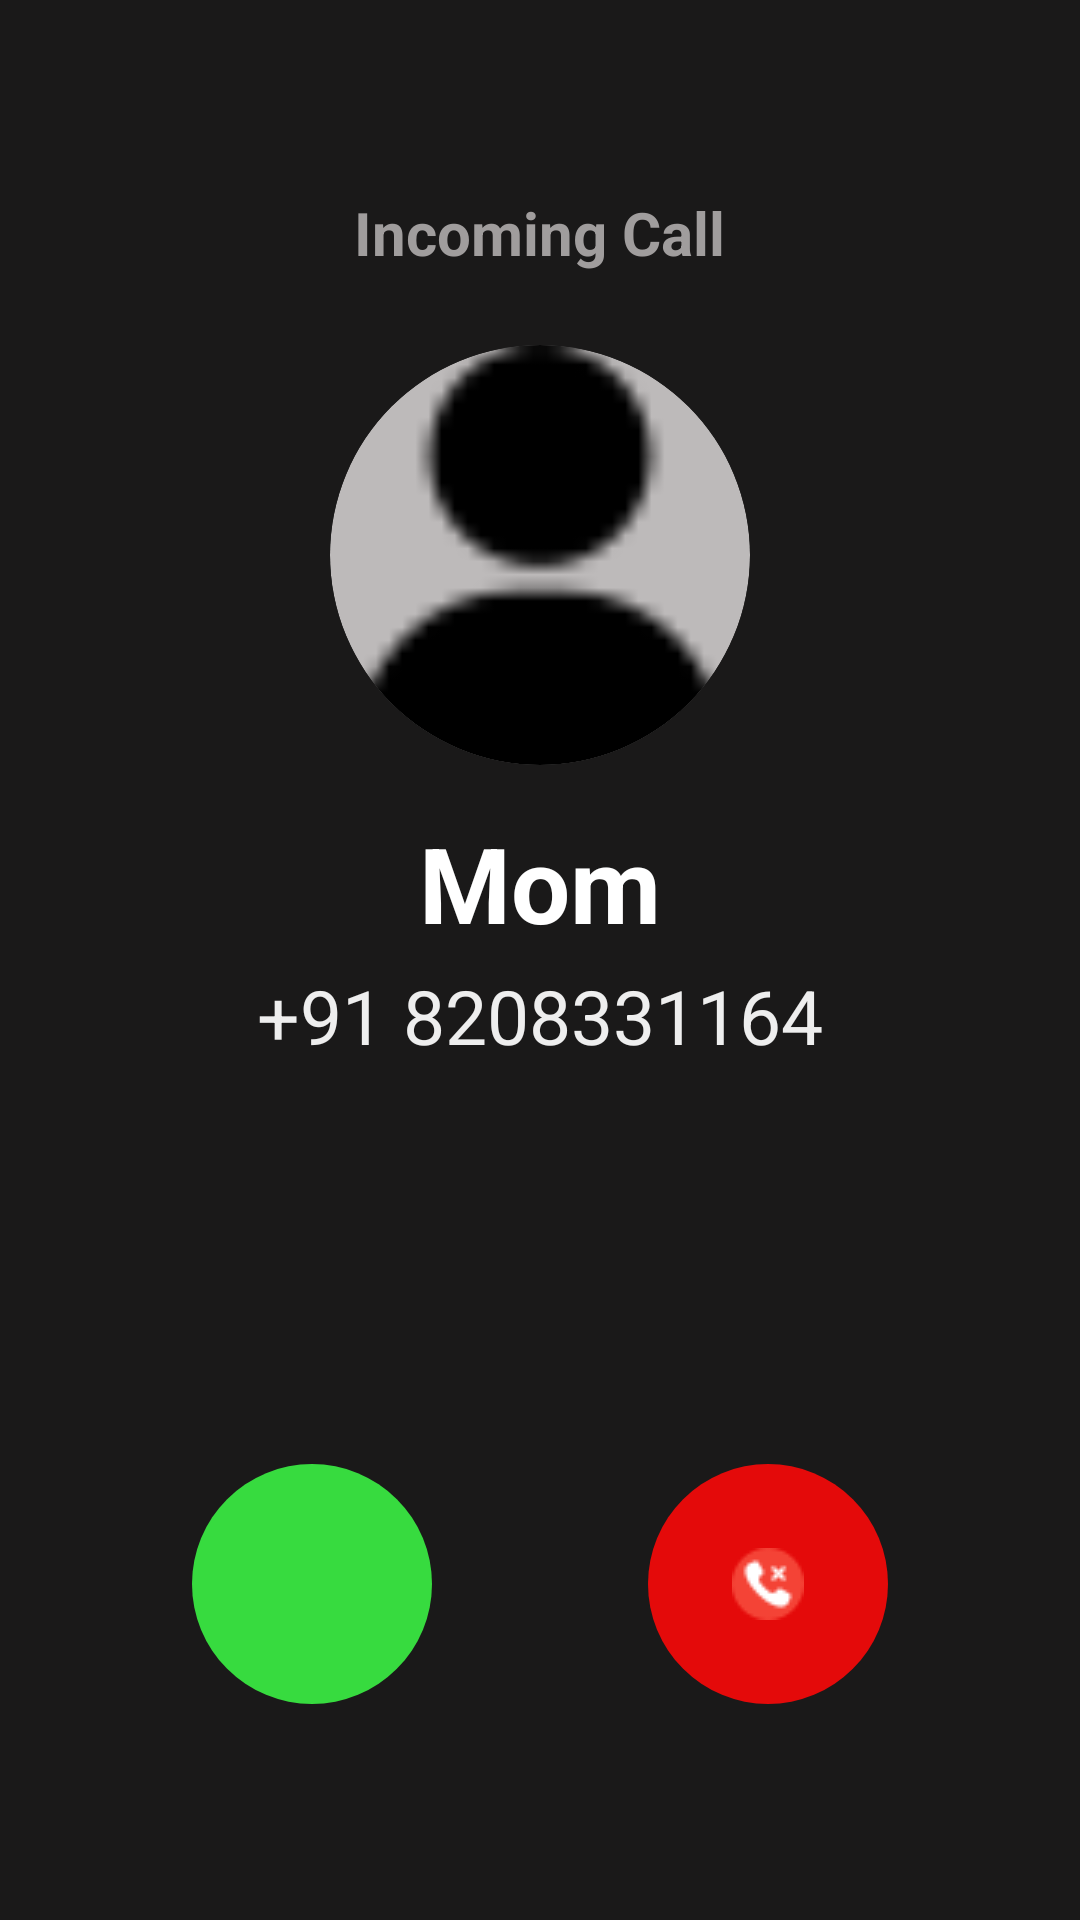

Named icons in this screenshot (1080 x 1920) and their bounding boxes, (x1, y1, x2, y2):
Decline Call: (648, 1464, 888, 1704)
